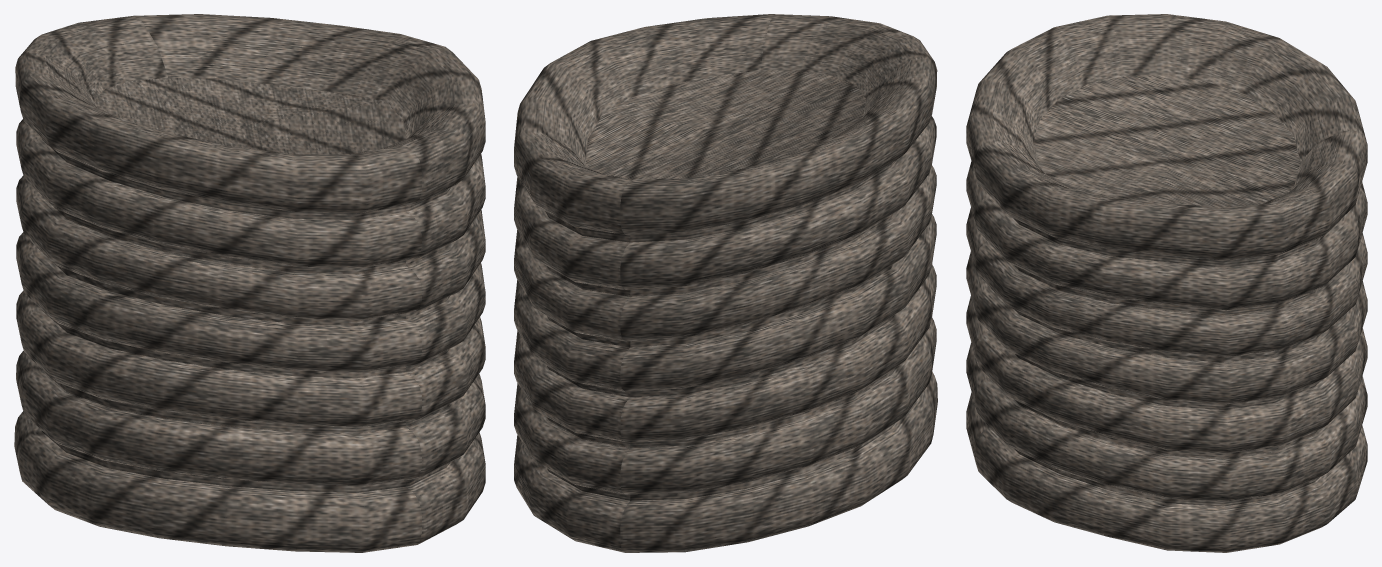
File: SM_Rope_Sleeve.fbx
3 renders of one model, left to right at view 1: azimuth 30°, elevation 25°; view 2: azimuth 150°, elevation 25°; view 3: azimuth 270°, elevation 25°, orthographic. The views are drawn at different scales.
Visible parts, largest first — view 1: SM_Rope_Sleeve_LOD0; view 2: SM_Rope_Sleeve_LOD0; view 3: SM_Rope_Sleeve_LOD0.
Boxes of the visible parts, <box> form: SM_Rope_Sleeve_LOD0: <box>14,14,485,552</box>; SM_Rope_Sleeve_LOD0: <box>514,14,937,552</box>; SM_Rope_Sleeve_LOD0: <box>966,14,1367,552</box>.
Bounding box in the file's own units: 35.7 × 36.21 × 38.79.
Materials: 1 (1 with a texture image).
